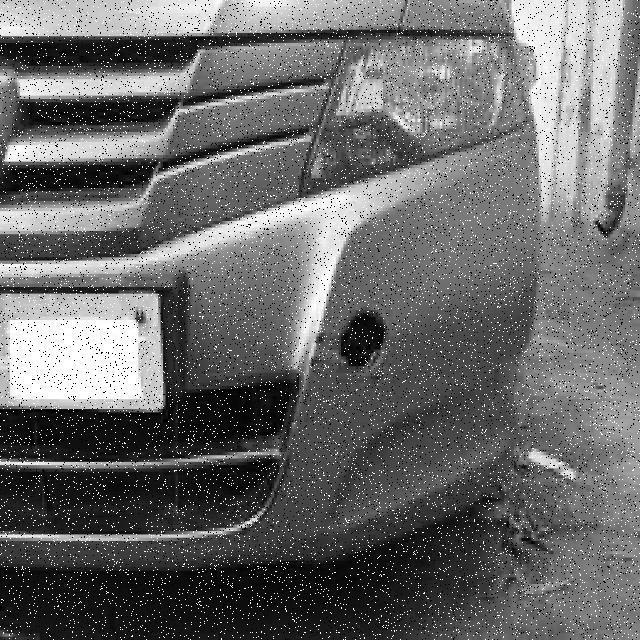front-bumper-dent: (0, 182, 538, 564)
